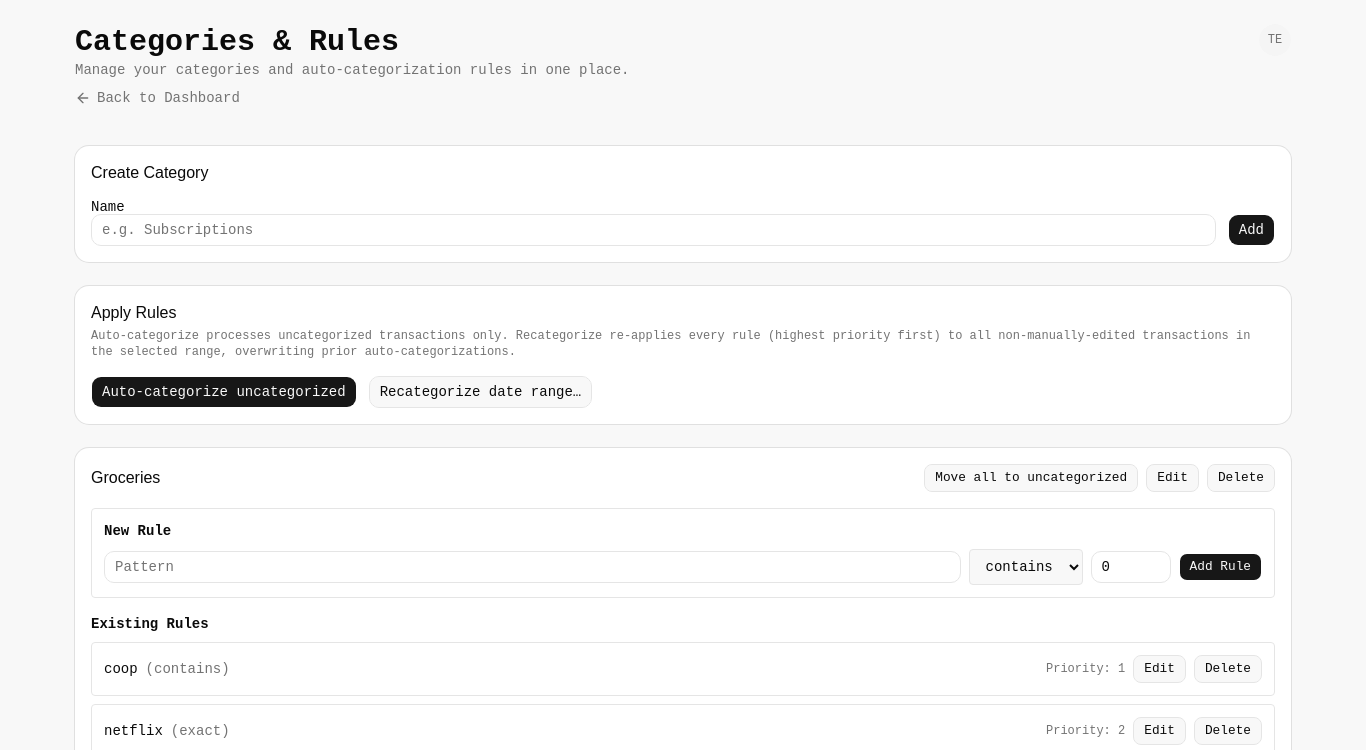
Test: CategoriesPage › shows deletion warning near category when backend blocks deletion
The image size is (1366, 750).
expect the heading "Groceries" is shown: met, box [91,466,160,490]
Click the button with aria-label "Delete category Groceries" at (1241, 478), box [1207,464,1275,492]
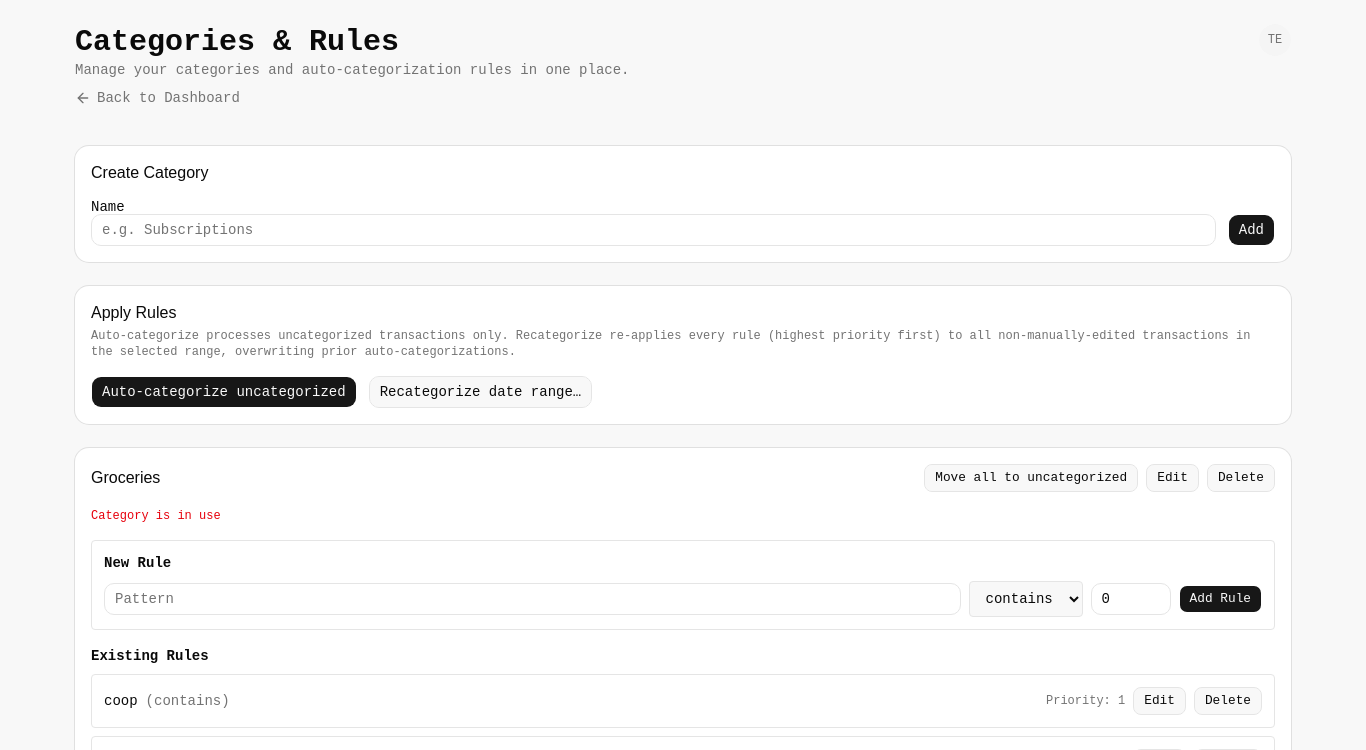
expect the text "Groceries" is shown: met, box [91,469,160,486]
expect the text "Category is in use" is shown: met, box [91,509,221,523]
